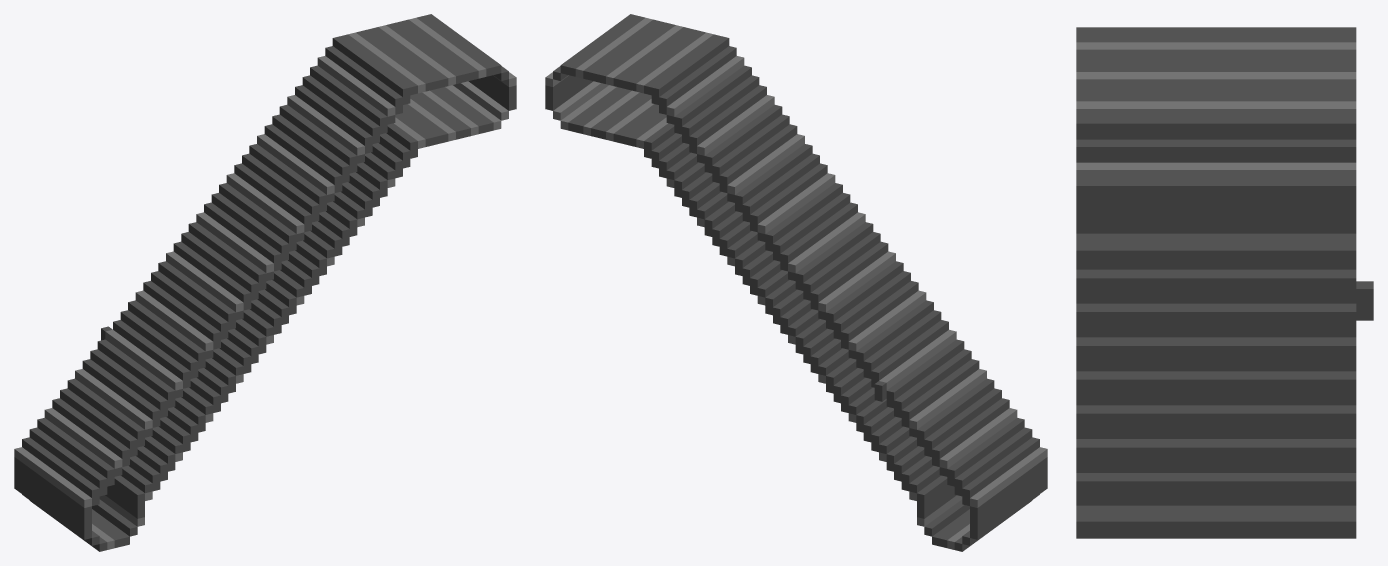
The model's file is конвеер новый3.obj.
3 renders of one model, left to right at view 1: azimuth 30°, elevation 25°; view 2: azimuth 150°, elevation 25°; view 3: azimuth 270°, elevation 25°, orthographic. The views are drawn at different scales.
Bounding box in the file's own units: 5.7 × 4.9 × 1.7.
1 material, 1 textured.
